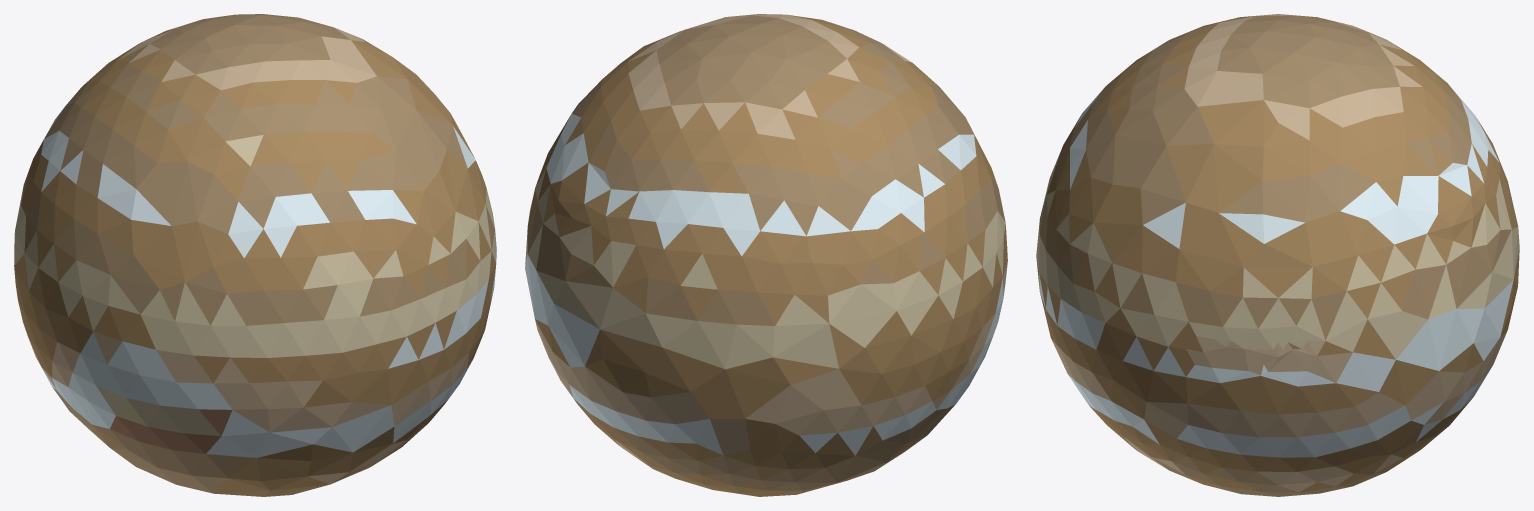
File: jupiter.glb
The picture shows the model from 3 angles, left to right: view 1: azimuth 30°, elevation 25°; view 2: azimuth 150°, elevation 25°; view 3: azimuth 270°, elevation 25°; orthographic projection.
Parts seen in each view (by area): view 1: jupiter; view 2: jupiter; view 3: jupiter.
Part boxes in pixels (bbox=[...]): jupiter: bbox=[14, 14, 496, 496]; jupiter: bbox=[525, 14, 1007, 496]; jupiter: bbox=[1036, 14, 1519, 496].
Bounding box in the file's own units: 5.01 × 5.01 × 5.02.
Materials: 1 (1 with a texture image).
